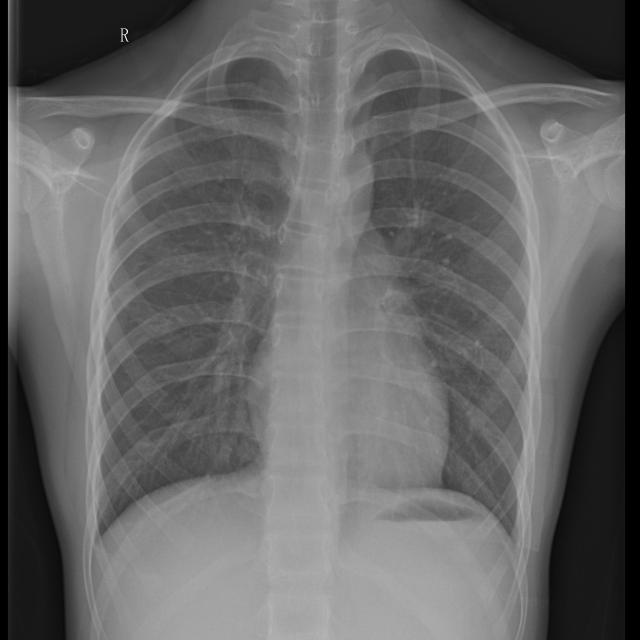no-pneumonia: (98, 45, 300, 533), (349, 49, 530, 531)
